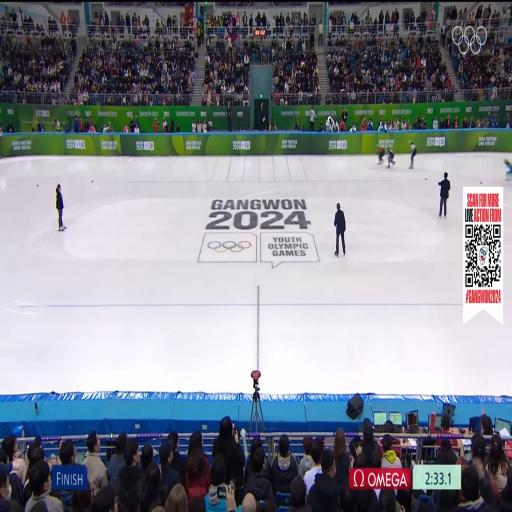Skater: (409, 141, 417, 169), (387, 147, 395, 168), (377, 145, 385, 164), (504, 159, 511, 179)
